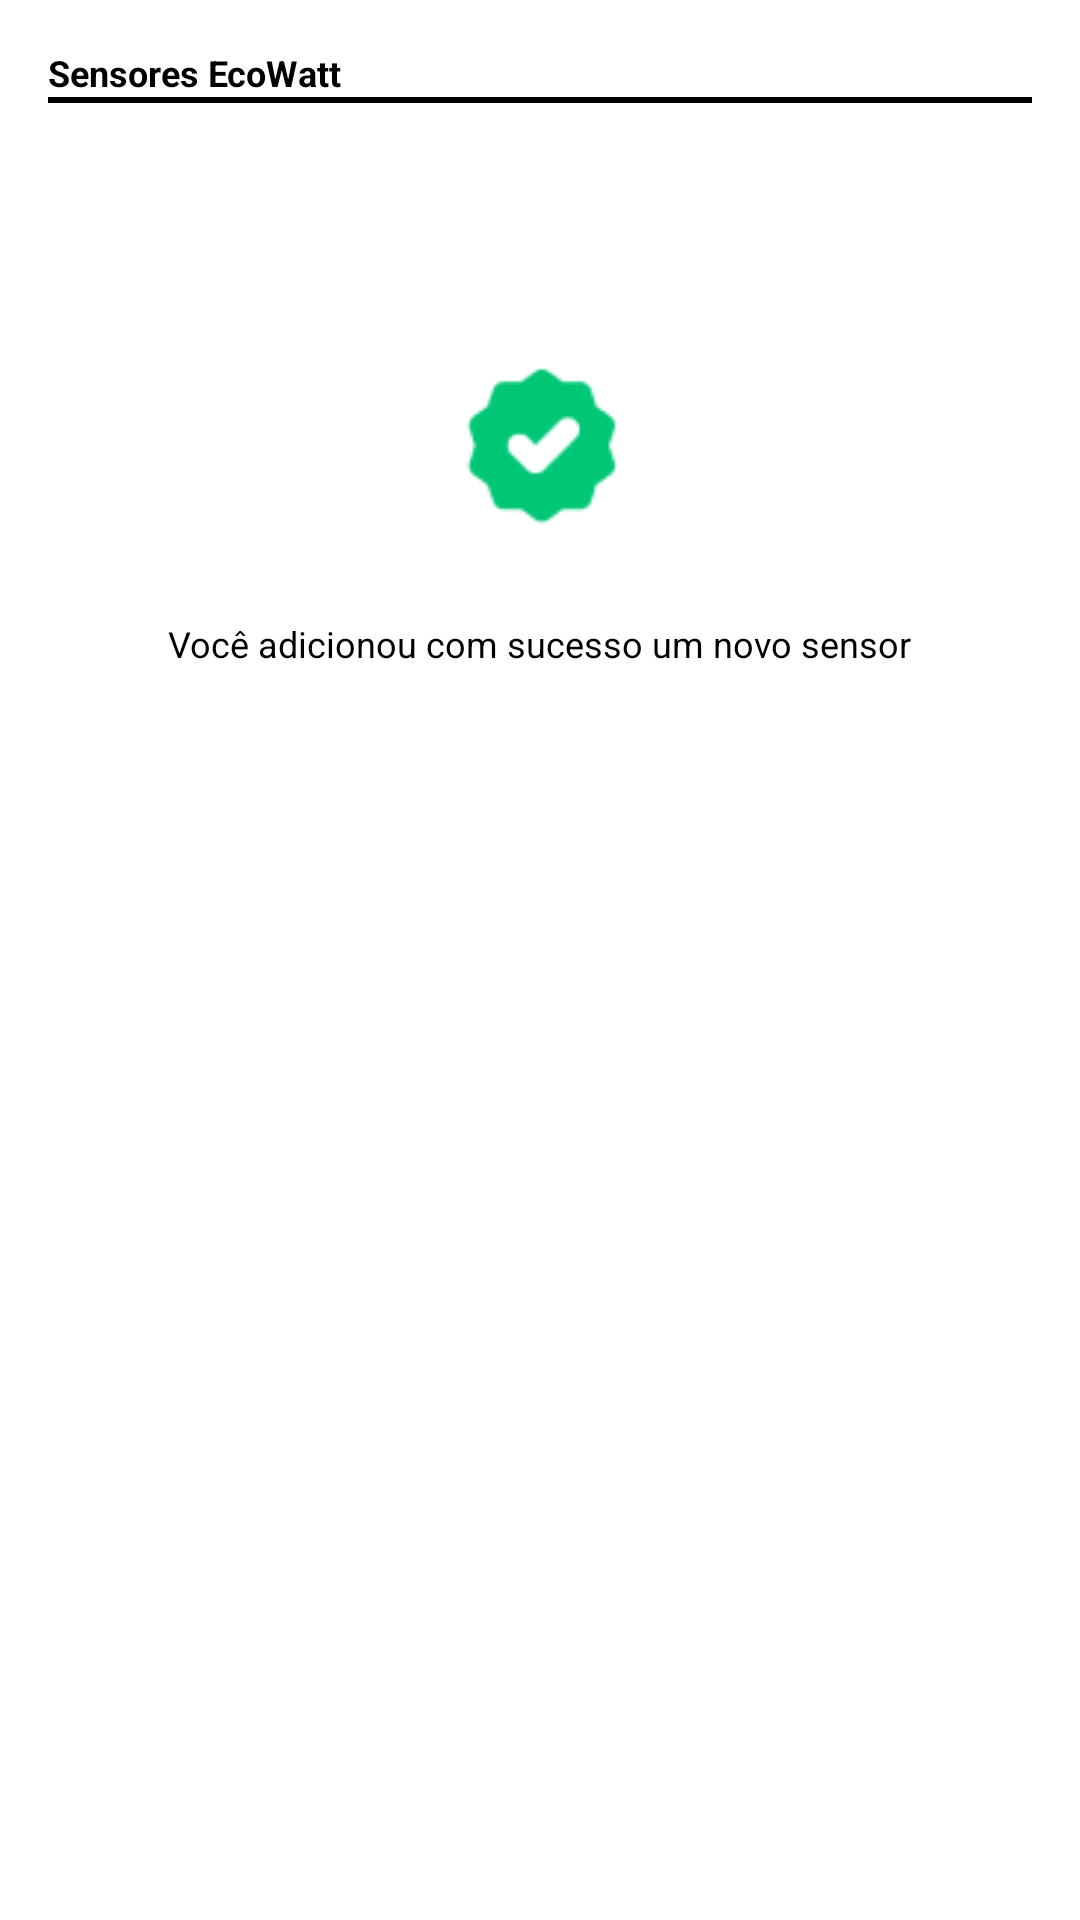

Icons on this 1080px x 1920px Android screen, each with its box as (x1, y1, x2, y2):
success: (467, 368, 616, 524)
